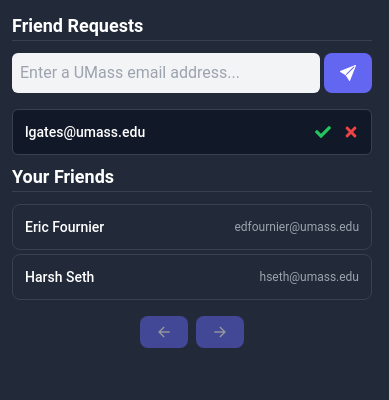
Test: Friends › handles opening and close card view
Expected: the icon named "accept" is shown, [315, 124, 331, 140]
# Select a friend and then close out
Click the text "Eric Fournier" at (65, 227), box [25, 217, 104, 237]
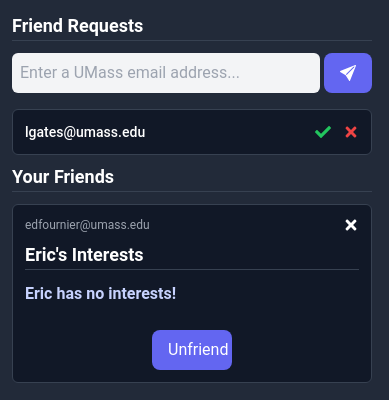
Click the icon named "close" at (351, 225), box [343, 217, 359, 233]
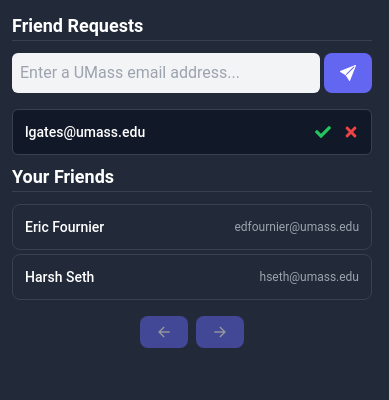
Result: the text "Harsh Seth" is shown at [25, 267, 94, 287]
